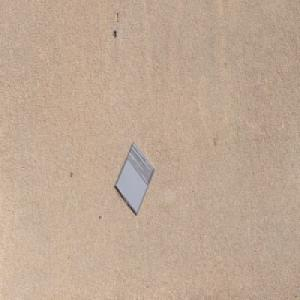PlasticPart: (114, 141, 155, 216)
